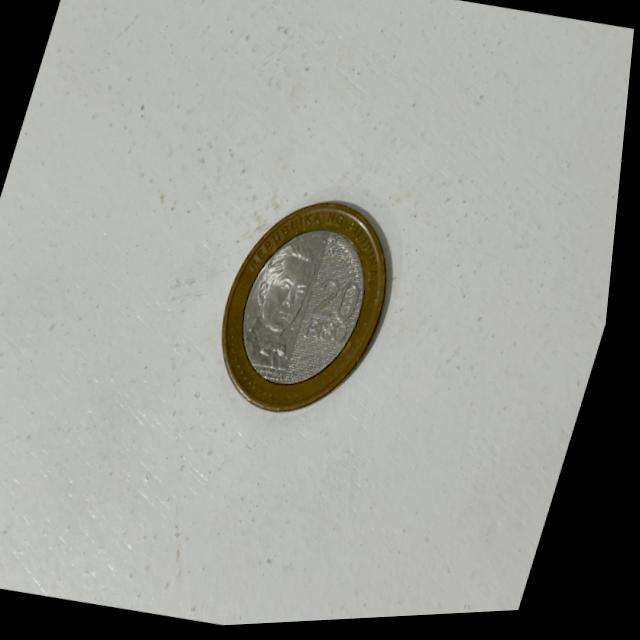20_New_Front: (304, 257, 386, 359)
